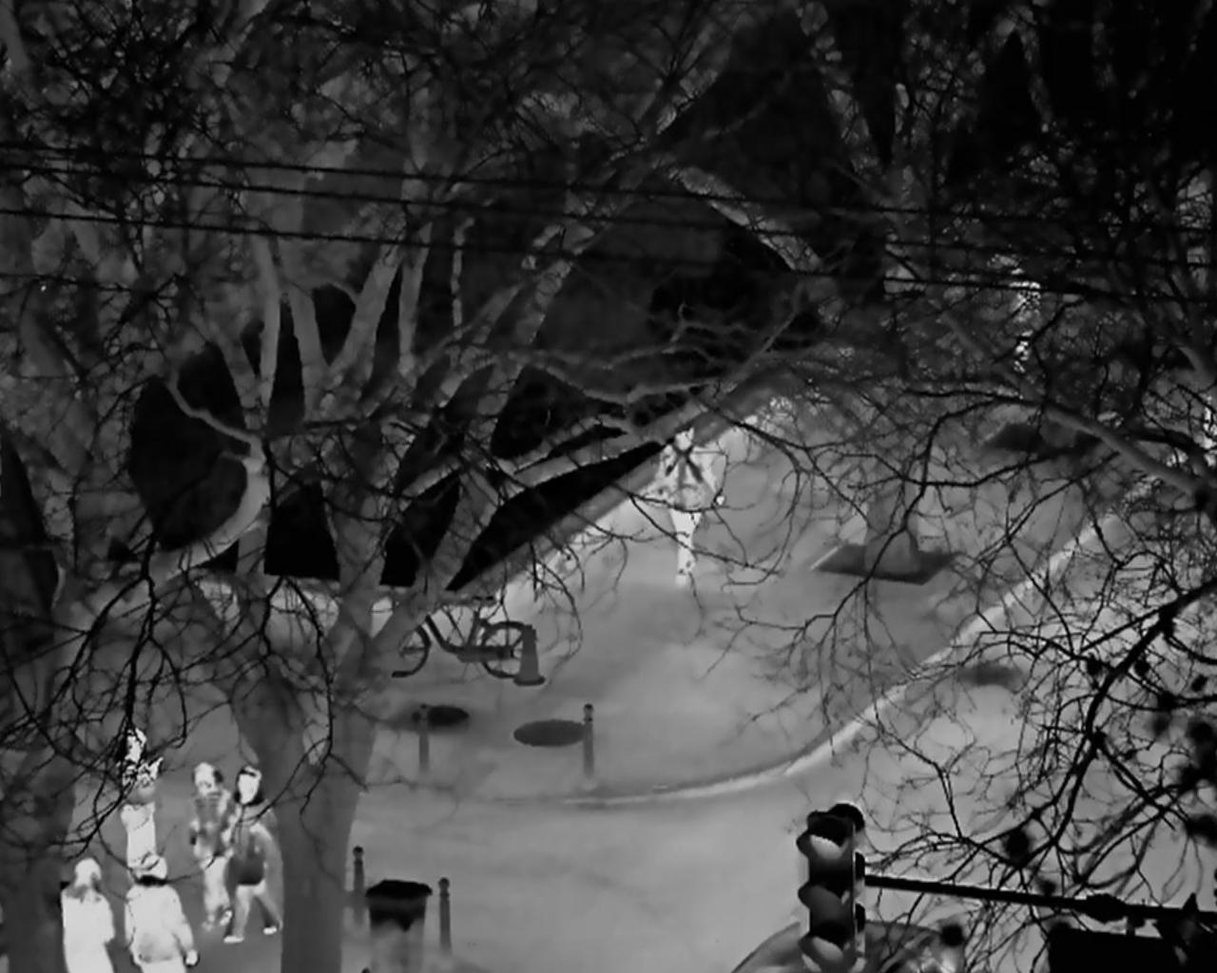person: (650, 426, 724, 582), (221, 766, 284, 945), (122, 853, 198, 973), (185, 761, 233, 933), (120, 724, 165, 884), (58, 856, 115, 973)
